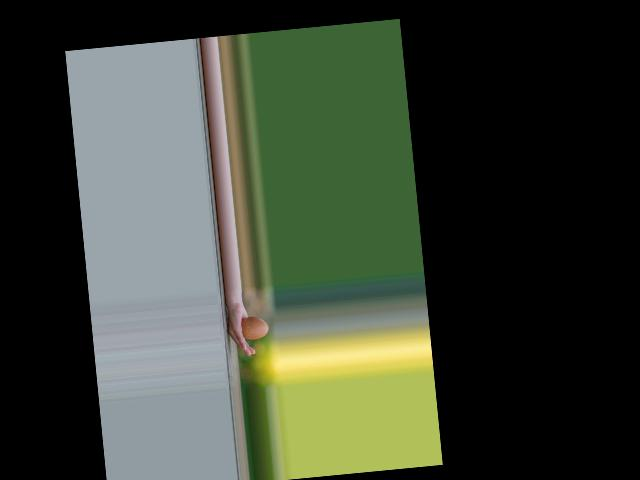egg: (240, 314, 269, 340)
